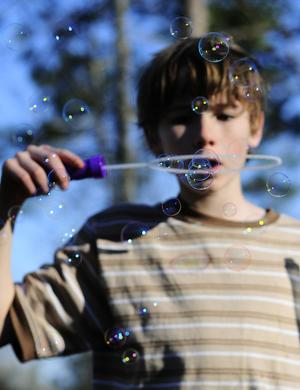person: (1, 34, 300, 390)
